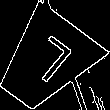L_SW: (16, 33, 74, 91)
